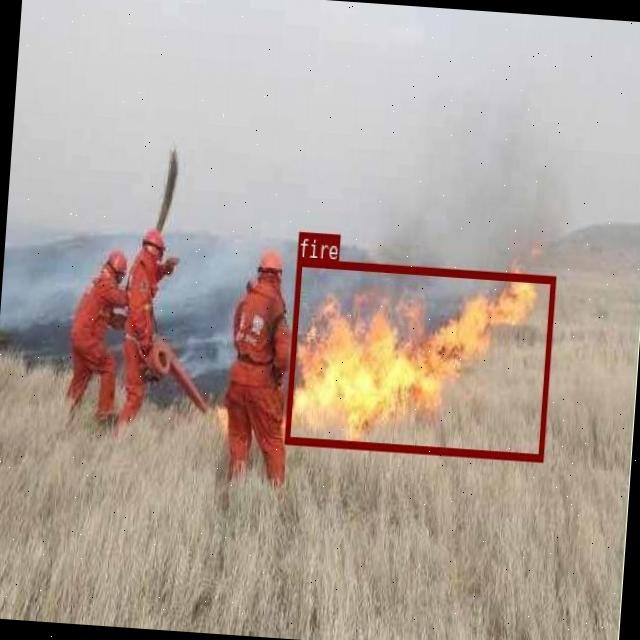fire: (284, 257, 554, 460)
